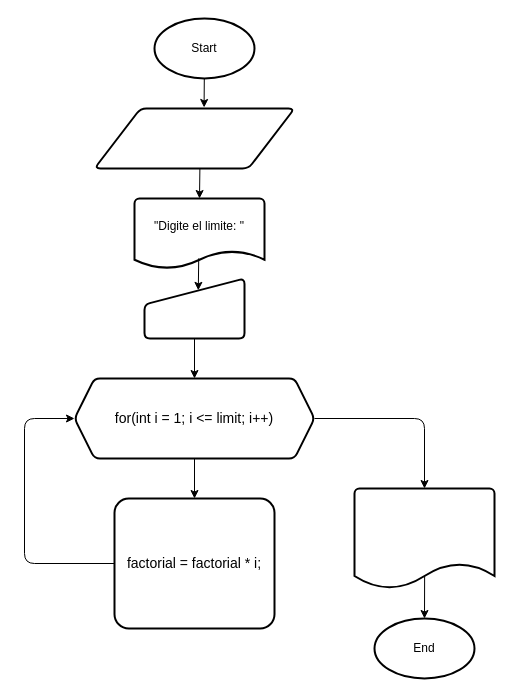
Image size: 513x696. Some labels were removed from this diagram. The shapes that lost their labels are listed below. From the top down, each one's box as (x1, y1, x2, y2) in pixels, then its label:
(93, 107, 295, 169): limit = 0; factorial = 1;
(143, 277, 245, 339): limit
(353, 487, 495, 589): "El factorial es: " + factorial;
